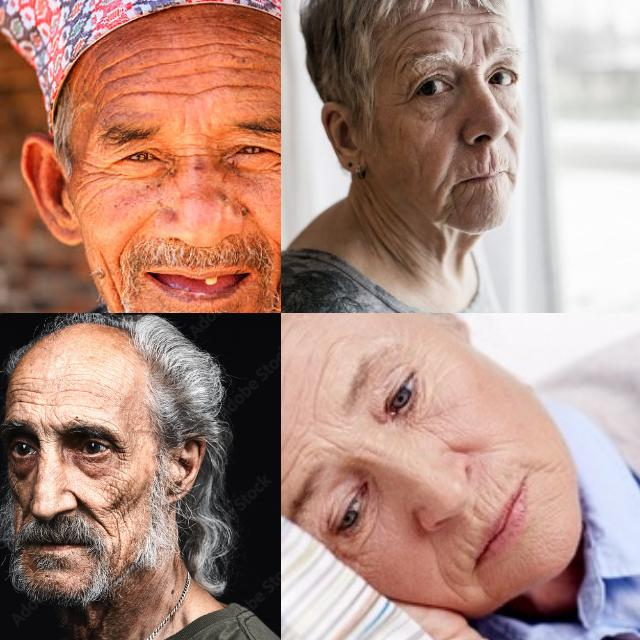chin: (460, 182, 504, 200), (440, 198, 458, 225)
crows_feet: (78, 160, 120, 190), (392, 88, 418, 110), (116, 444, 132, 468)
forehead: (281, 332, 334, 404), (220, 27, 276, 67), (220, 71, 276, 105), (101, 66, 153, 102), (164, 72, 208, 110), (155, 34, 211, 60), (281, 435, 298, 487), (100, 51, 136, 74), (398, 14, 428, 40), (56, 382, 95, 402), (12, 382, 38, 408), (389, 48, 409, 78), (432, 2, 460, 22), (474, 13, 496, 29)
frown_line: (314, 429, 352, 455), (178, 139, 216, 163), (37, 418, 61, 439), (478, 34, 490, 60), (458, 35, 469, 61)
gummy_smile: (110, 219, 138, 265), (76, 494, 98, 518), (434, 172, 448, 195)
masseter: (98, 267, 126, 309), (268, 257, 281, 313), (114, 493, 132, 519), (113, 521, 127, 551)
sad_smile: (434, 571, 470, 607), (518, 457, 560, 473)
smoker_lines: (442, 529, 476, 571), (476, 471, 506, 515), (471, 150, 504, 167)
